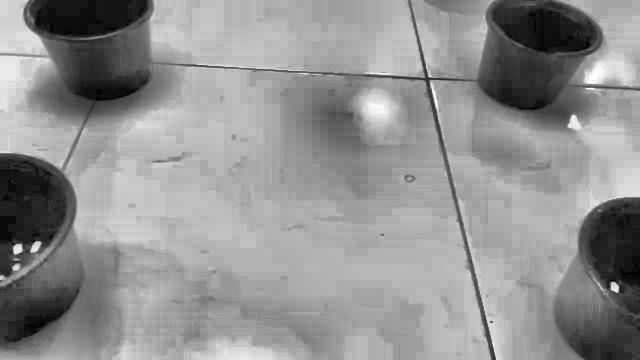pot: (0, 154, 84, 344), (554, 198, 640, 360), (478, 0, 602, 110), (23, 0, 154, 100)
